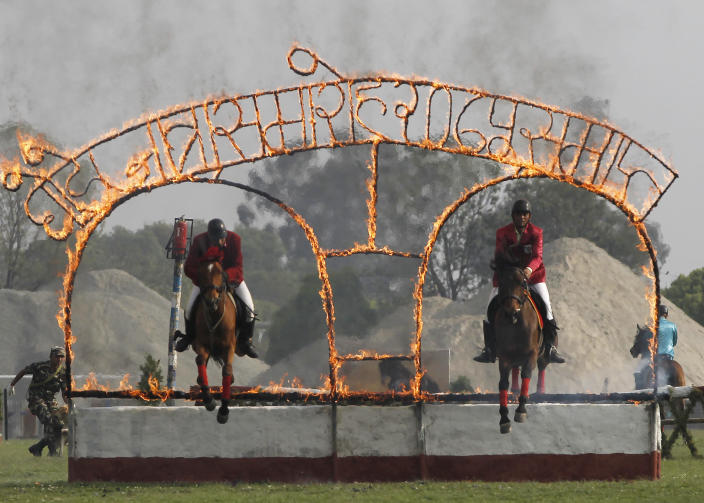human: (474, 200, 573, 384), (177, 219, 275, 368)
